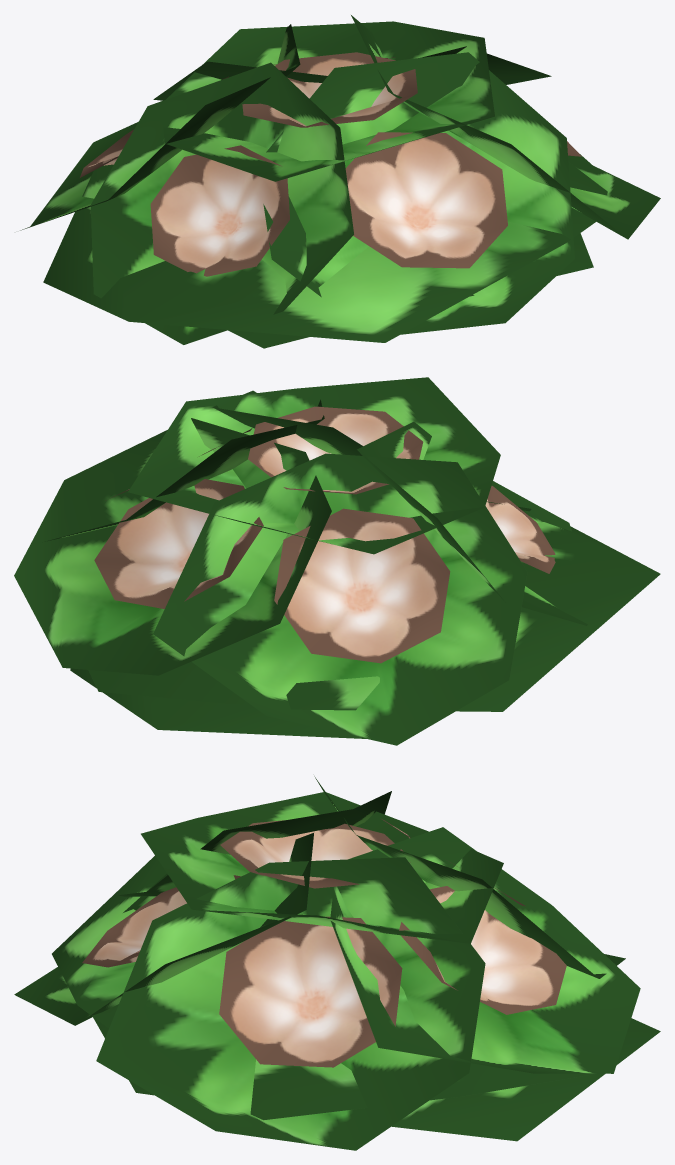
The model's file is Flower_Bush1.obj.
3 views of the same model, one above another, from view 1: azimuth 30°, elevation 25°; view 2: azimuth 150°, elevation 25°; view 3: azimuth 270°, elevation 25° (orthographic). The views are drawn at different scales.
Visible parts, largest first — view 1: Plane151, Plane141, Plane136, Plane140, Plane147, Plane142, Plane149, Plane145, Plane148, Plane143, Plane152, Plane146; view 2: Plane145, Plane143, Plane146, Plane151, Plane147, Plane144, Plane152, Plane148, Plane141, Plane149, Plane142, Plane136; view 3: Plane149, Plane143, Plane150, Plane151, Plane147, Plane152, Plane144, Plane136, Plane148, Plane145, Plane141, Plane140.
Part boxes in pixels (x1=…): Plane151: x1=43, y1=162, x2=607, y2=342; Plane141: x1=90, y1=62, x2=353, y2=344; Plane136: x1=263, y1=52, x2=574, y2=334; Plane140: x1=345, y1=132, x2=507, y2=268; Plane147: x1=163, y1=21, x2=494, y2=181; Plane142: x1=150, y1=145, x2=289, y2=276; Plane149: x1=351, y1=15, x2=660, y2=239; Plane145: x1=20, y1=24, x2=300, y2=230; Plane148: x1=242, y1=52, x2=417, y2=127; Plane143: x1=153, y1=46, x2=551, y2=100; Plane152: x1=228, y1=233, x2=593, y2=348; Plane146: x1=80, y1=76, x2=228, y2=177; Plane145: x1=153, y1=453, x2=527, y2=745; Plane143: x1=14, y1=418, x2=331, y2=675; Plane146: x1=274, y1=508, x2=450, y2=663; Plane151: x1=88, y1=522, x2=660, y2=711; Plane147: x1=128, y1=377, x2=500, y2=554; Plane144: x1=94, y1=479, x2=263, y2=608; Plane152: x1=70, y1=668, x2=365, y2=738; Plane148: x1=248, y1=406, x2=423, y2=494; Plane141: x1=357, y1=421, x2=587, y2=625; Plane149: x1=45, y1=399, x2=324, y2=541; Plane142: x1=485, y1=486, x2=555, y2=573; Plane136: x1=212, y1=390, x2=531, y2=511; Plane149: x1=96, y1=857, x2=485, y2=1150; Plane143: x1=330, y1=827, x2=640, y2=1073; Plane150: x1=219, y1=916, x2=402, y2=1067; Plane151: x1=52, y1=856, x2=596, y2=1120; Plane147: x1=141, y1=792, x2=503, y2=943; Plane152: x1=93, y1=1017, x2=660, y2=1141; Plane144: x1=399, y1=886, x2=566, y2=1014; Plane136: x1=14, y1=833, x2=313, y2=1025; Plane148: x1=220, y1=820, x2=410, y2=888; Plane145: x1=314, y1=776, x2=625, y2=978; Plane141: x1=118, y1=791, x2=391, y2=896; Plane140: x1=82, y1=875, x2=240, y2=967.
Bounding box in the file's own units: 14.78 × 5.82 × 14.9.
